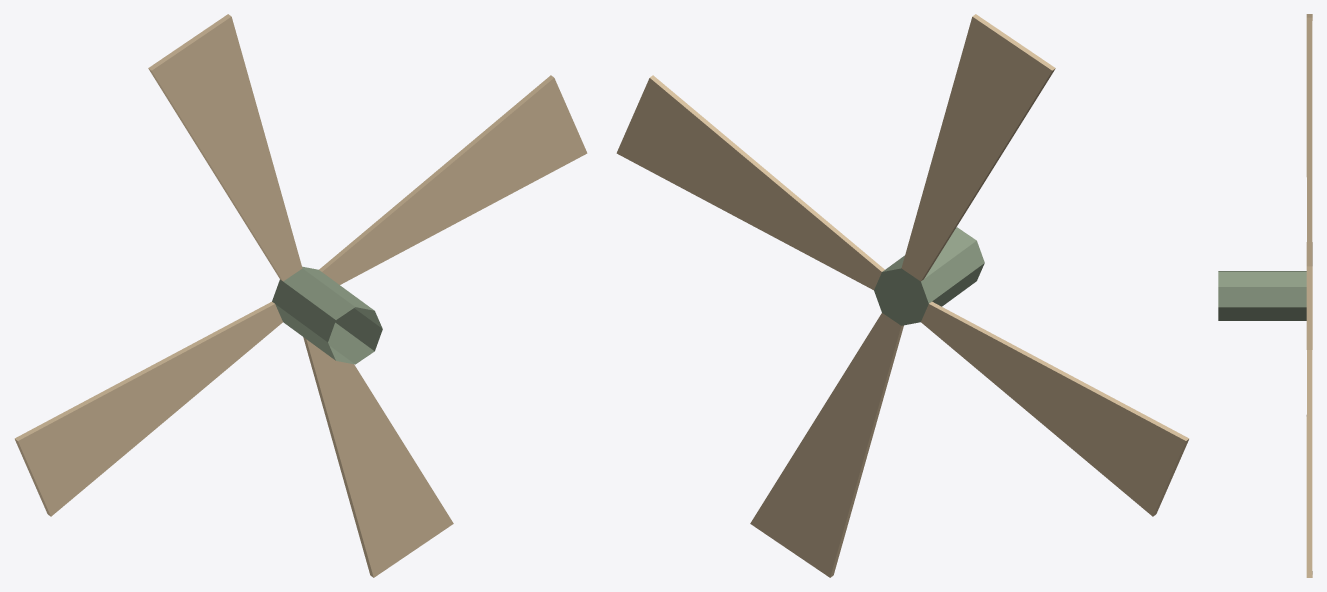
File: FBX_Windmill_Blades.fbx
The picture shows the model from 3 angles, left to right: view 1: azimuth 30°, elevation 25°; view 2: azimuth 150°, elevation 25°; view 3: azimuth 270°, elevation 25°; orthographic projection. The views are drawn at different scales.
Parts seen in each view (by area): view 1: MH_Windmill_Blades; view 2: MH_Windmill_Blades; view 3: MH_Windmill_Blades.
Part boxes in pixels (x1=…): MH_Windmill_Blades: x1=14, y1=14, x2=587, y2=577; MH_Windmill_Blades: x1=616, y1=14, x2=1189, y2=577; MH_Windmill_Blades: x1=1218, y1=14, x2=1312, y2=577.
Bounding box in the file's own units: 311 × 311 × 53.15.
